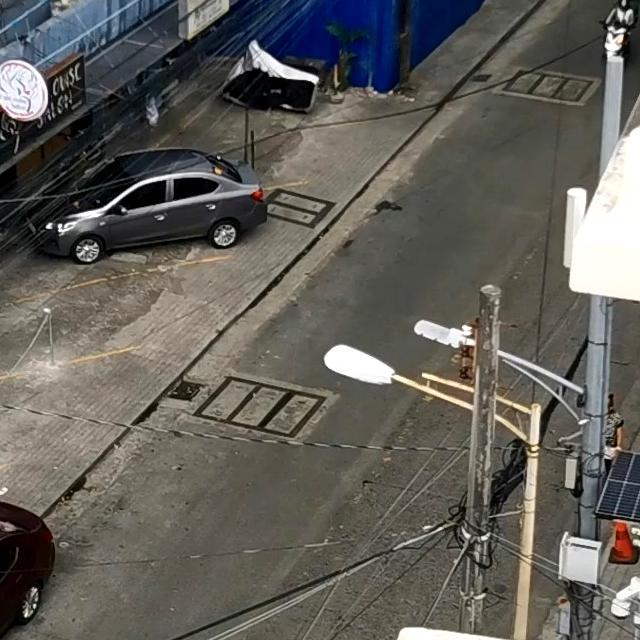Motorcycle: (581, 0, 640, 66)
